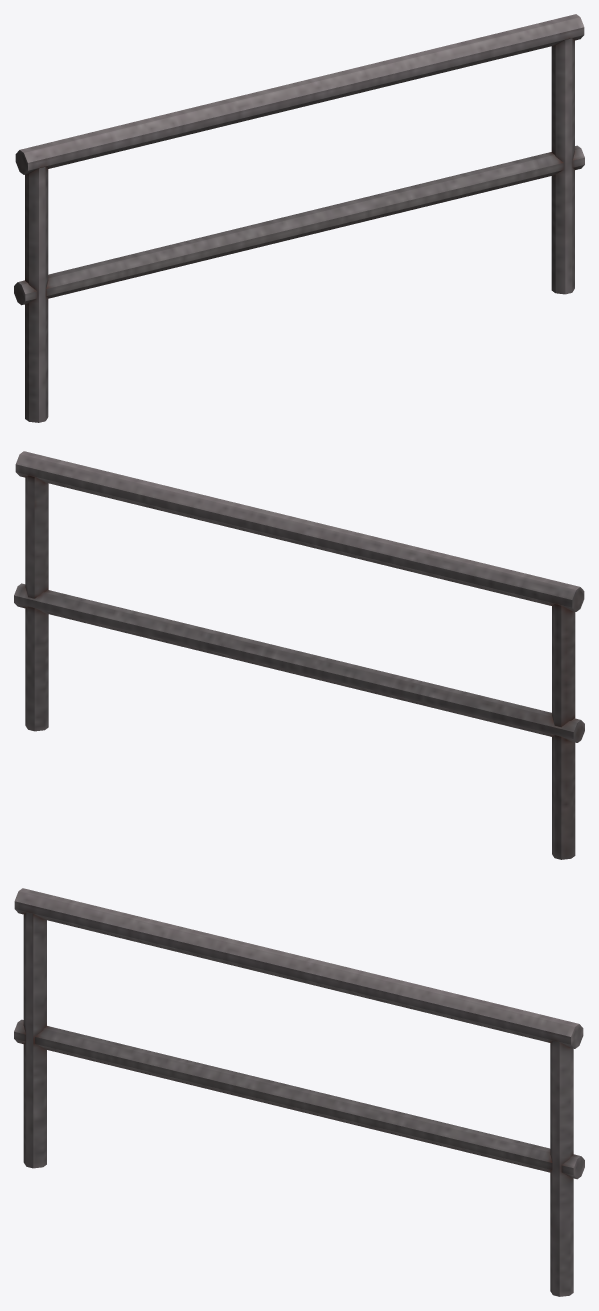
Rendered from handrail.glb.
The picture shows the model from 3 angles, top to bottom: view 1: azimuth 30°, elevation 25°; view 2: azimuth 150°, elevation 25°; view 3: azimuth 330°, elevation 25°; orthographic projection.
Parts seen in each view (by area): view 1: Railing_Variant_2; view 2: Railing_Variant_2; view 3: Railing_Variant_2.
Part boxes in pixels (bbox=[...]): Railing_Variant_2: bbox=[14, 14, 584, 422]; Railing_Variant_2: bbox=[14, 451, 584, 859]; Railing_Variant_2: bbox=[14, 888, 584, 1296].
Size of the model in its own units: 2.24 by 1.03 by 0.0849.
Materials: 1 (1 with a texture image).
